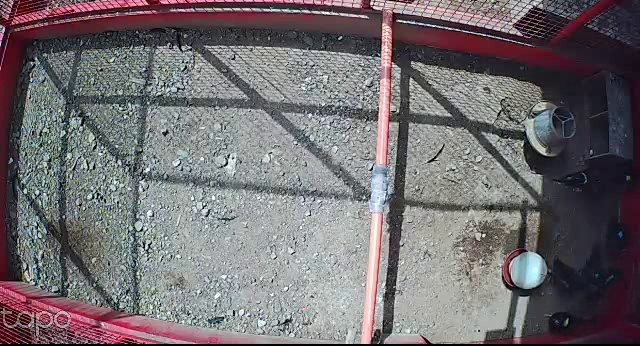Drinker: (501, 247, 547, 292)
Feeder: (524, 98, 581, 161)
